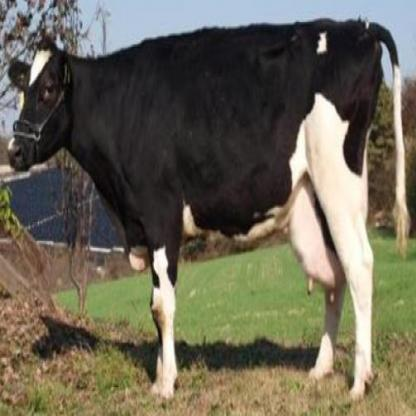cow: (8, 17, 411, 403)
